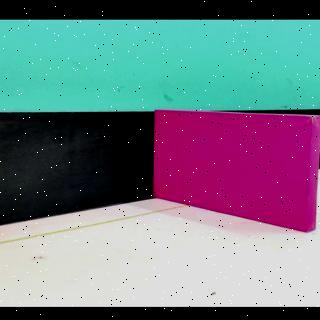xparking: (156, 118, 310, 230)
